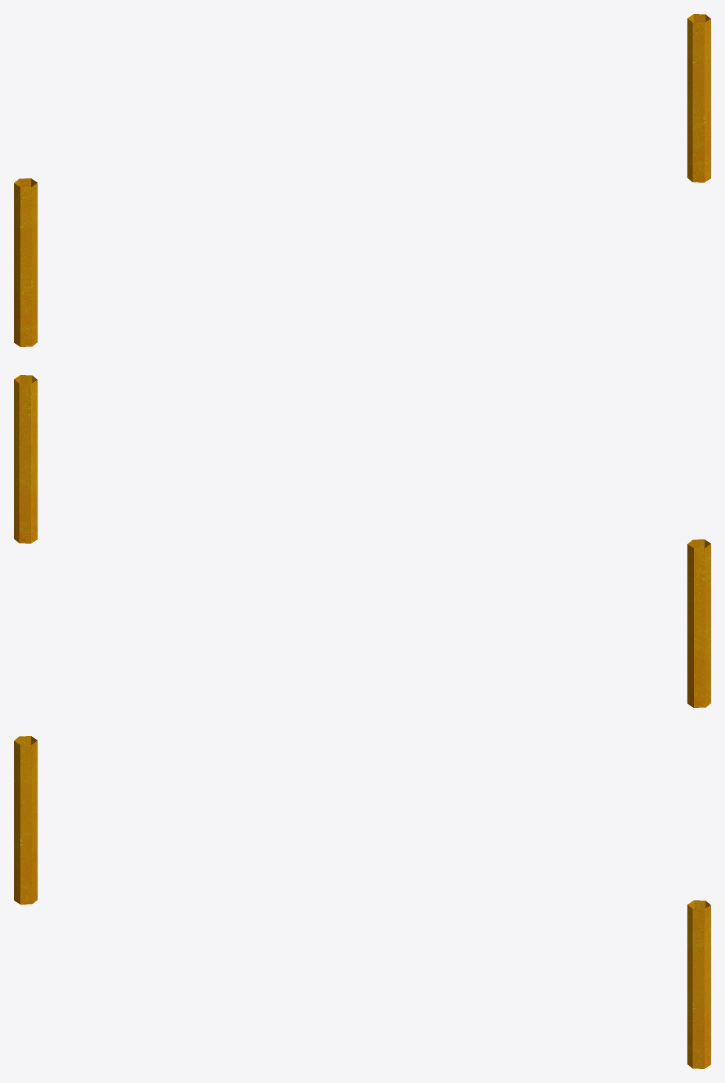
The model's file is FacilityPillar_03_SM_Low.fbx.
The picture shows the model from 3 angles, top to bottom: view 1: azimuth 30°, elevation 25°; view 2: azimuth 150°, elevation 25°; view 3: azimuth 330°, elevation 25°; orthographic projection.
Visible parts, largest first — view 1: facility_pillar_03_geo; view 2: facility_pillar_03_geo; view 3: facility_pillar_03_geo.
Part boxes in pixels (x1,y1,x2,y2): facility_pillar_03_geo: [14, 14, 710, 346]; facility_pillar_03_geo: [14, 375, 710, 707]; facility_pillar_03_geo: [14, 736, 710, 1068].
Bounding box in the file's own units: 2092 × 461 × 61.77.
Materials: 1 (1 with a texture image).
